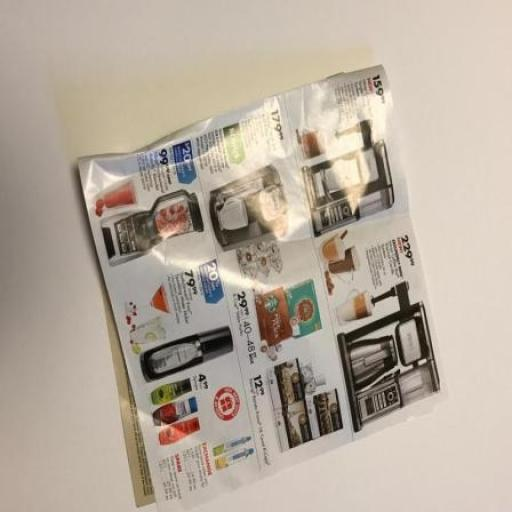paper: (74, 61, 451, 512)
